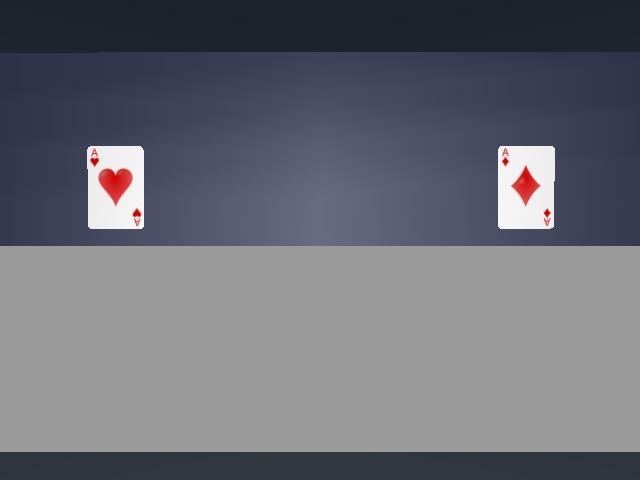diamond: (498, 146, 554, 228)
heart: (87, 146, 144, 228)
